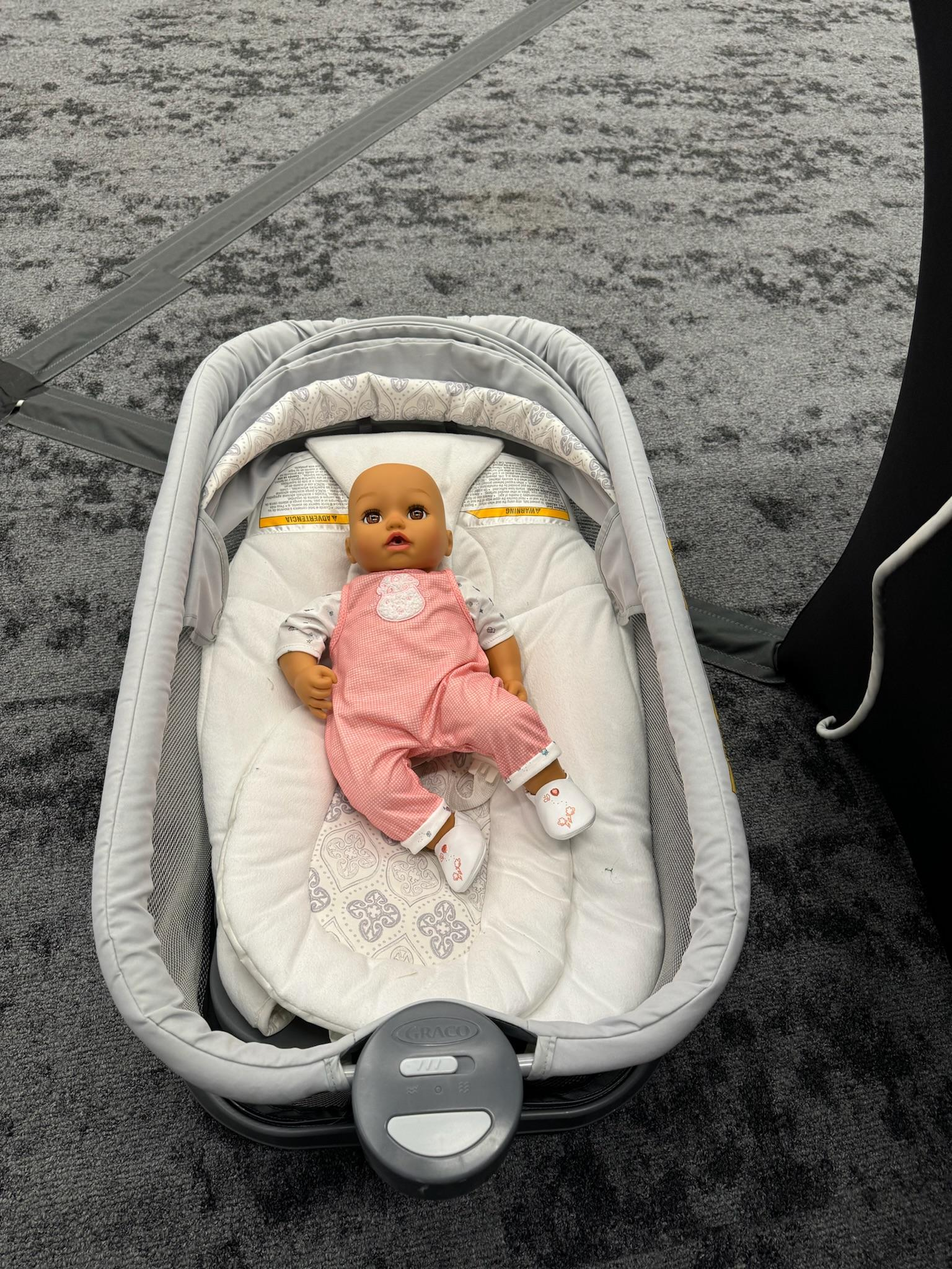baby: (279, 455, 595, 875)
